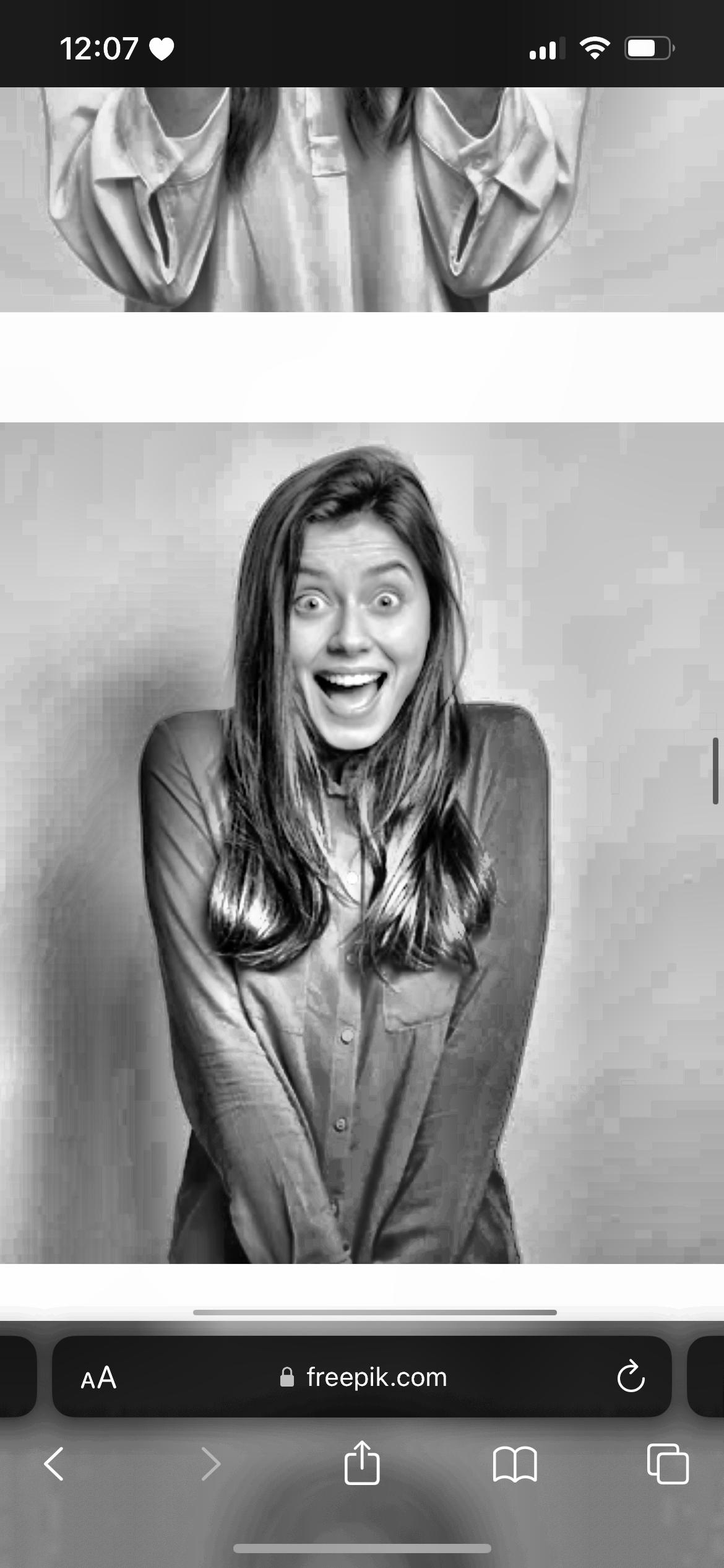surprised: (252, 458, 464, 788)
